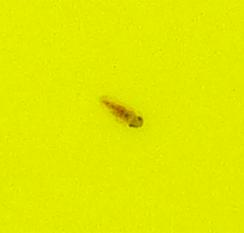Hemiptera: (100, 100, 144, 133)
